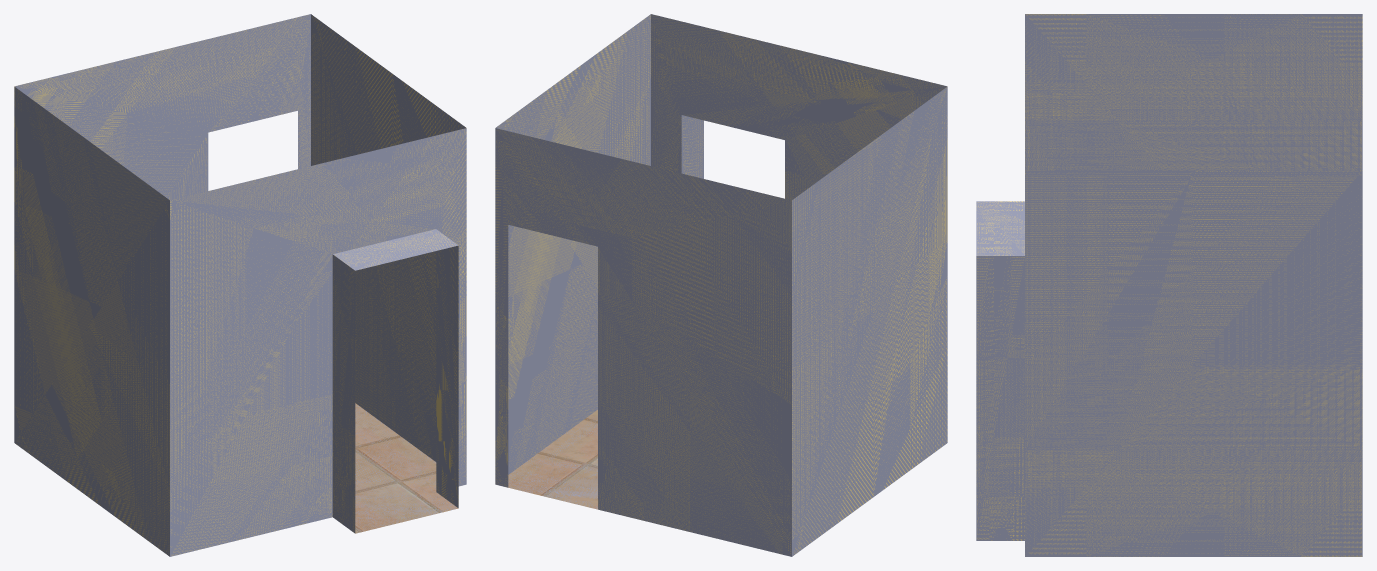
The model's file is DES056.obj.
3 views of the same model, side by side, from view 1: azimuth 30°, elevation 25°; view 2: azimuth 150°, elevation 25°; view 3: azimuth 270°, elevation 25° (orthographic). The views are drawn at different scales.
Visible parts, largest first — view 1: Mesh1 DES056 Model; view 2: Mesh1 DES056 Model; view 3: Mesh1 DES056 Model.
Part boxes in pixels (box(x1,y1,x2,y2)): Mesh1 DES056 Model: box(14, 14, 466, 556); Mesh1 DES056 Model: box(495, 14, 947, 556); Mesh1 DES056 Model: box(976, 14, 1362, 556).
Bounding box in the file's own units: 2.62 × 3 × 2.72.
Materials: 3 (1 with a texture image).
